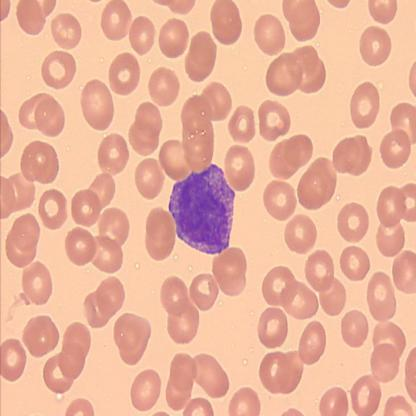Myelocyte: (169, 164, 236, 255)
